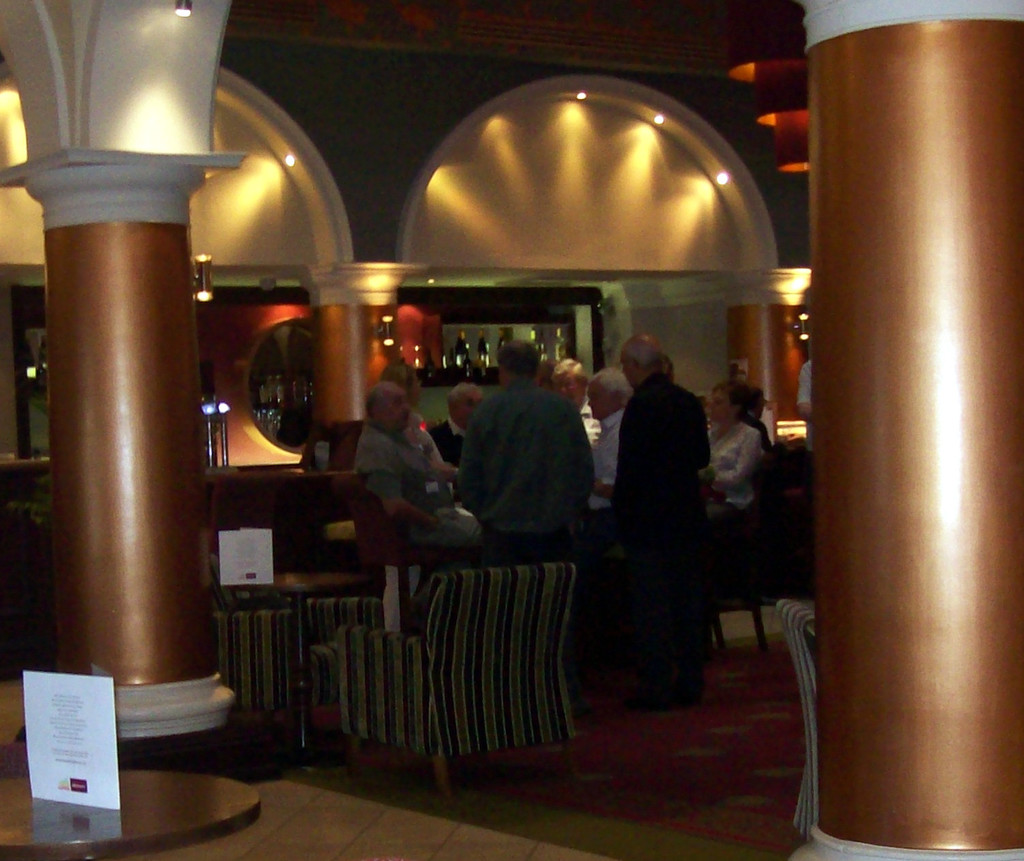person: (350, 377, 461, 619)
